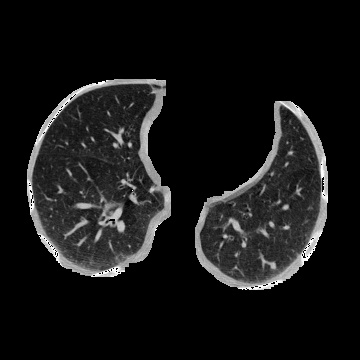PN: (270, 262, 276, 268)
